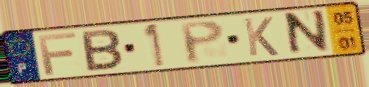1: (142, 22, 167, 69)
B: (79, 28, 125, 74)
F: (36, 30, 79, 77)
K: (241, 16, 282, 58)
N: (285, 7, 332, 59)
P: (177, 18, 227, 65)
